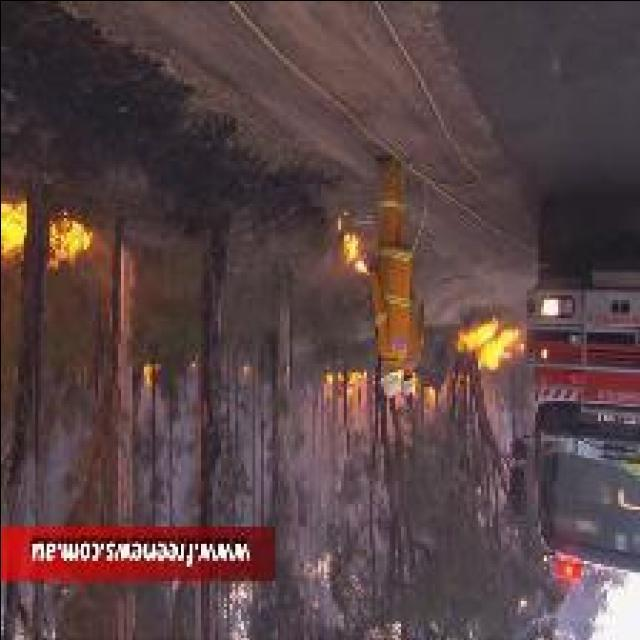Fire: (454, 314, 526, 372), (48, 216, 98, 270), (0, 196, 26, 262), (338, 230, 372, 276)
